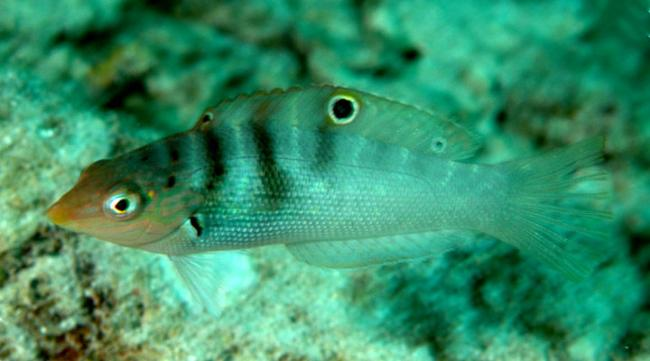fish: (44, 83, 614, 283)
